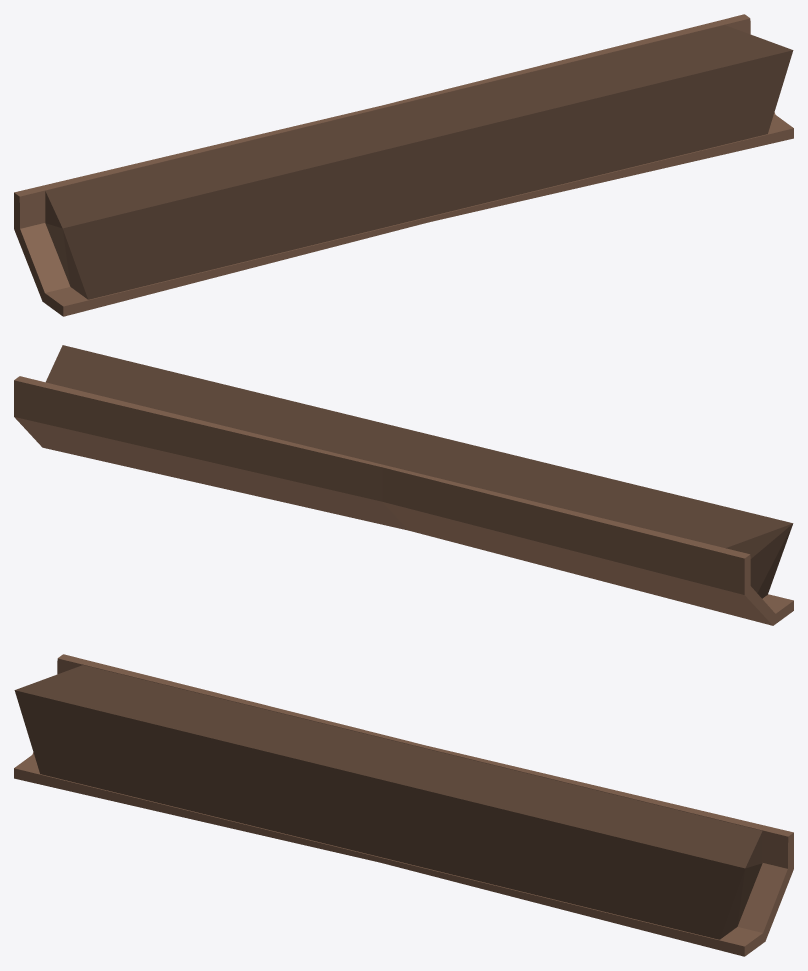
File: Log_3_Light_Brown.fbx
3 renders of one model, top to bottom at view 1: azimuth 30°, elevation 25°; view 2: azimuth 150°, elevation 25°; view 3: azimuth 330°, elevation 25°, orthographic.
Parts seen in each view (by area): view 1: Log_3_Light_Brown; view 2: Log_3_Light_Brown; view 3: Log_3_Light_Brown.
Boxes of the visible parts, x1,y1,x2,y2 form: Log_3_Light_Brown: (14,14,793,316); Log_3_Light_Brown: (14,345,793,625); Log_3_Light_Brown: (14,654,793,956).
Size of the model in its own units: 200 by 23.09 by 23.37.
